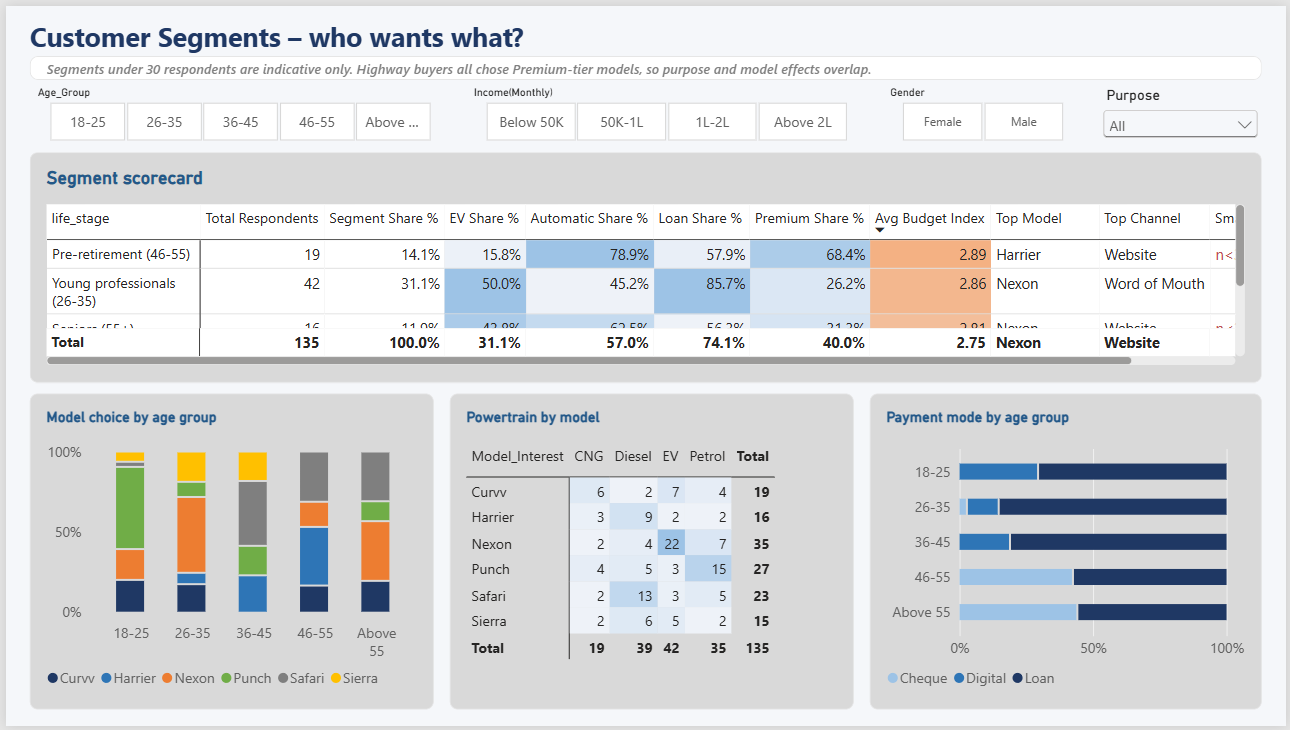

What the dashboard file says about the page in this screenshot:
{"tool":"powerbi","page":{"name":"Customer Segments","canvas":[1280,720],"ordinal":1},"visuals":[{"type":"slicer","fields":{"Values":["Survey.Age_Group"]},"box":[24,80,420,56],"z":0},{"type":"slicer","fields":{"Values":["Survey.Income_Band"]},"box":[460,80,400,56],"z":1000},{"type":"slicer","fields":{"Values":["Survey.Gender"]},"box":[876,80,200,56],"z":2000},{"type":"slicer","fields":{"Values":["Survey.Purpose"]},"box":[1092,80,164,56],"z":3000},{"type":"textbox","box":[24,12,900,36],"z":4000},{"type":"cardVisual","fields":{"Data":["_Measures.Segment Note"]},"box":[24,50,1232,24],"z":5000},{"type":"pivotTable","title":"Segment scorecard","fields":{"Rows":["Survey.life_stage"],"Values":["_Measures.Total Respondents","_Measures.Segment Share %","_Measures.EV Share %","_Measures.Automatic Share %","_Measures.Loan Share %","_Measures.Premium Share %","_Measures.Avg Budget Index","_Measures.Top Model","_Measures.Top Channel","_Measures.Small Sample Flag"]},"box":[24,146,1232,230],"z":6000},{"type":"hundredPercentStackedColumnChart","title":"Model choice by age group","fields":{"Category":["Survey.Age_Group"],"Series":["Survey.Model_Interest"],"Y":["_Measures.Total Respondents"]},"box":[24,388,404,316],"z":7000},{"type":"pivotTable","title":"Powertrain by model","fields":{"Columns":["Survey.Powertrain"],"Rows":["Survey.Model_Interest"],"Values":["_Measures.Total Respondents"]},"box":[444,388,404,316],"z":8000},{"type":"hundredPercentStackedBarChart","title":"Payment mode by age group","fields":{"Category":["Survey.Age_Group"],"Series":["Survey.Finance_Mode"],"Y":["CountNonNull(Survey.Powertrain)"]},"box":[864,388,392,316],"z":9000}]}

Visuals, with their boxes in screenshot pixels (x1, y1, x2, y2), scaled from the page's 1280x720 canvas onto the 1290x730 screenshot:
slicer - Survey.Age_Group: 24:81:447:138
slicer - Survey.Income_Band: 464:81:867:138
slicer - Survey.Gender: 883:81:1084:138
slicer - Survey.Purpose: 1101:81:1266:138
textbox: 24:12:931:49
cardVisual - _Measures.Segment Note: 24:51:1266:75
"Segment scorecard" pivotTable: 24:148:1266:381
"Model choice by age group" hundredPercentStackedColumnChart: 24:393:431:714
"Powertrain by model" pivotTable: 447:393:855:714
"Payment mode by age group" hundredPercentStackedBarChart: 871:393:1266:714
